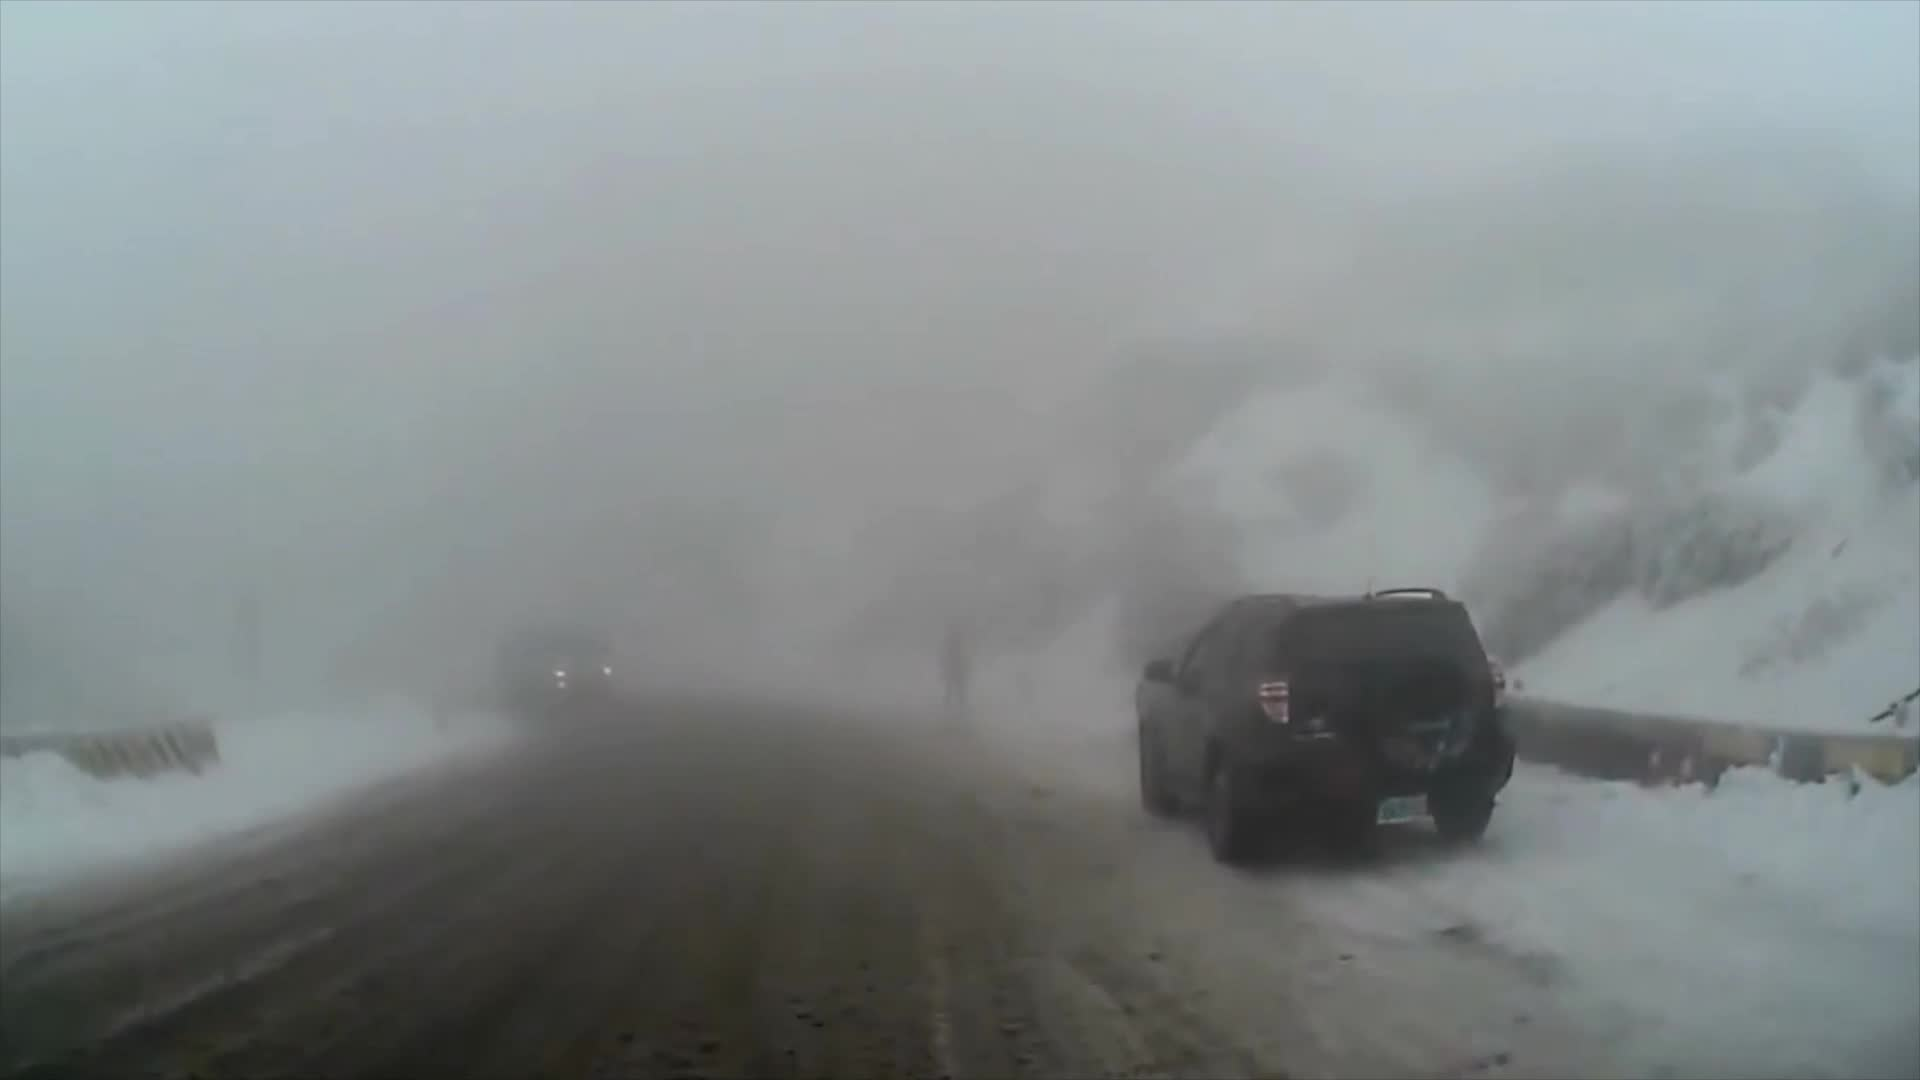vehicle: (1131, 584, 1516, 872)
